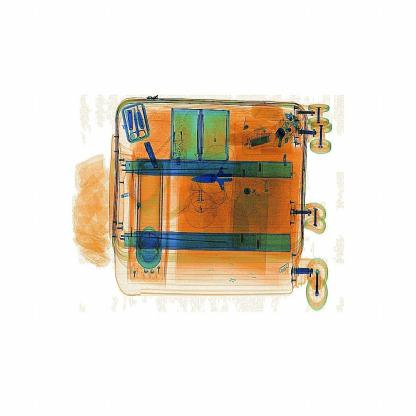gun: (187, 158, 242, 202)
